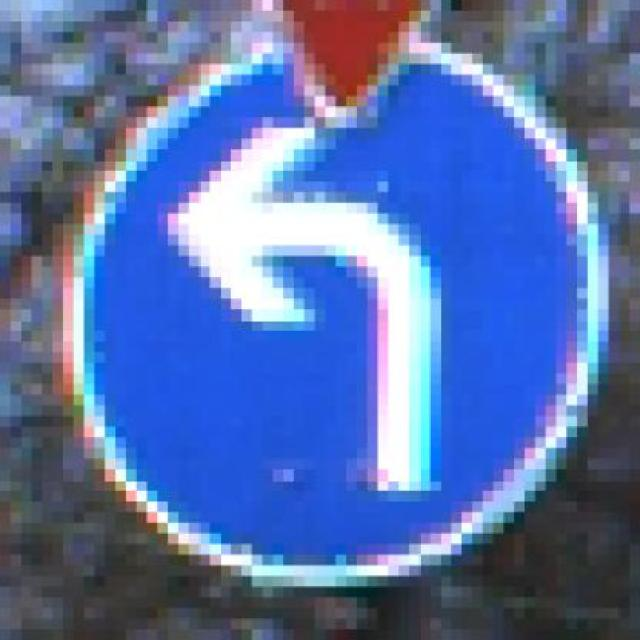Turn left ahead: (62, 42, 608, 620)
